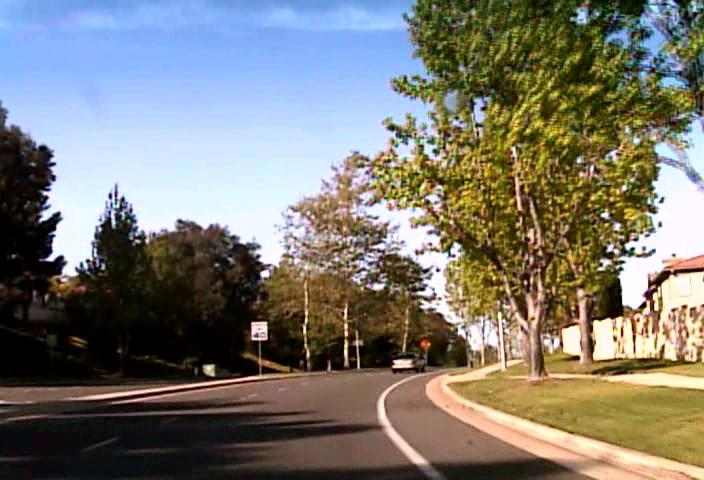speedLimit40: (250, 321, 267, 340)
